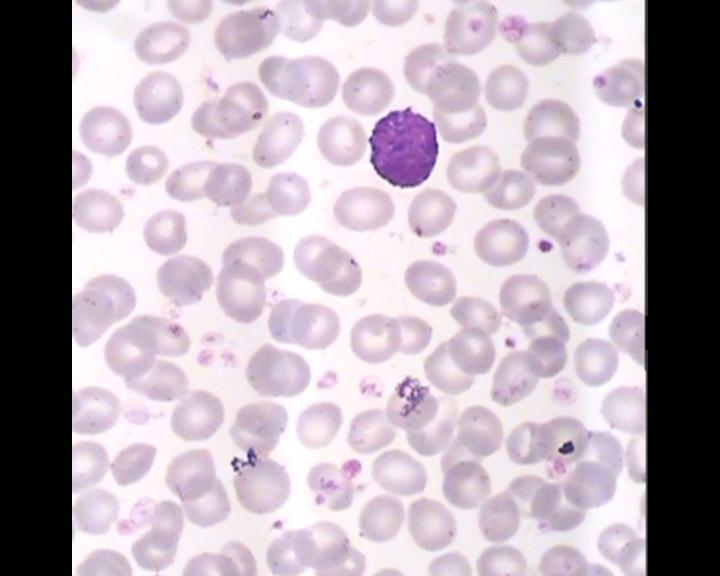baso: (363, 104, 443, 192)
